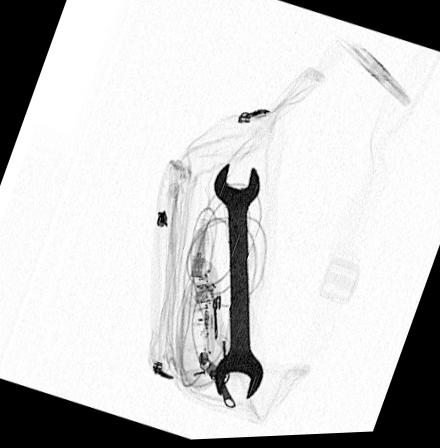Wrench: (213, 163, 264, 400)
